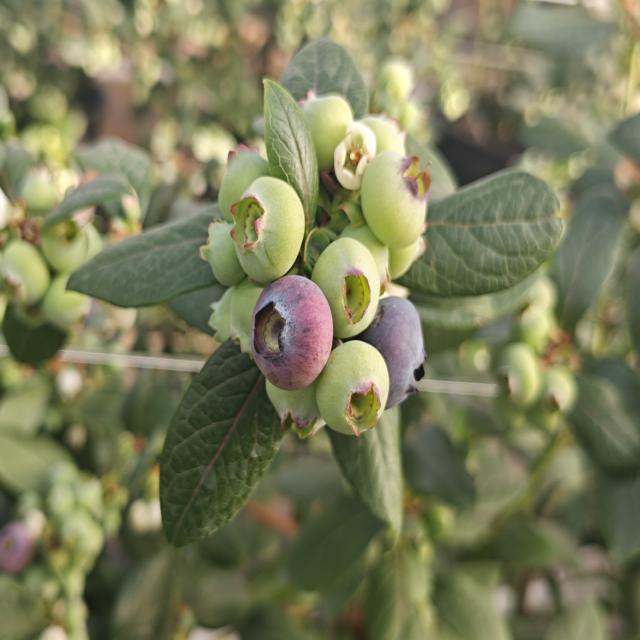ripe: (247, 264, 335, 393), (350, 286, 430, 416)
